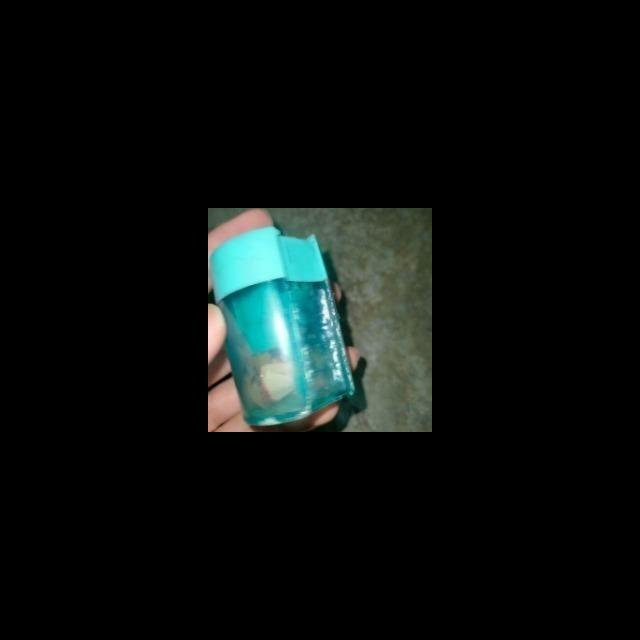plastic: (208, 218, 362, 432)
